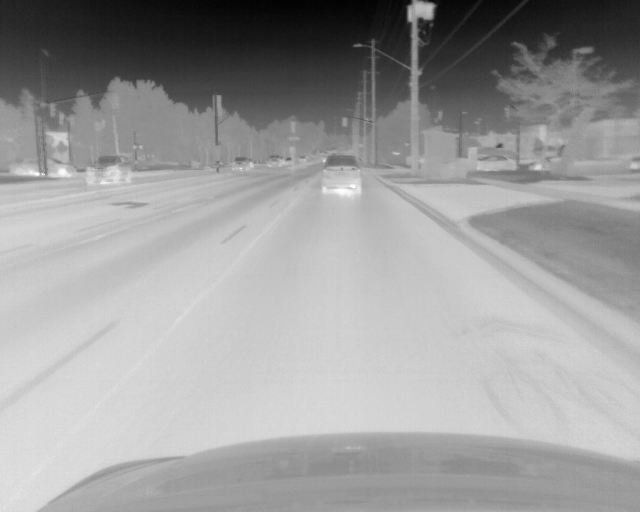car: (323, 156, 362, 194), (85, 155, 131, 185), (480, 156, 538, 171), (43, 156, 78, 176), (230, 157, 253, 172), (266, 155, 281, 167)
